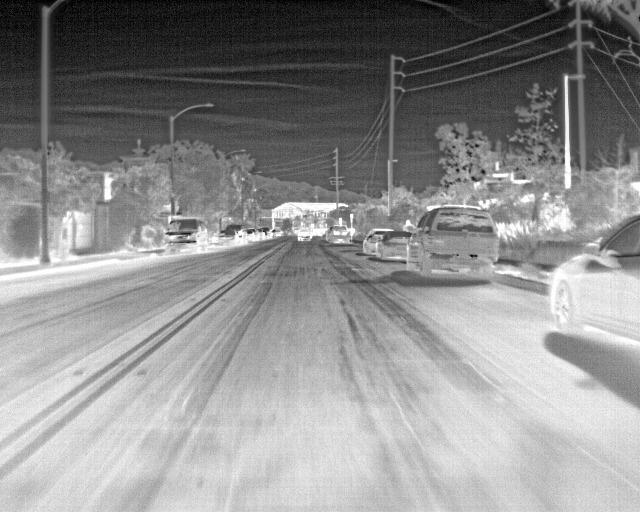car: (549, 211, 639, 354), (408, 205, 501, 283), (165, 217, 208, 252), (381, 229, 411, 260), (362, 228, 385, 258), (328, 226, 352, 244), (229, 224, 245, 244), (296, 227, 313, 242), (260, 226, 275, 242), (219, 228, 233, 245), (250, 227, 265, 242), (240, 226, 253, 243)
